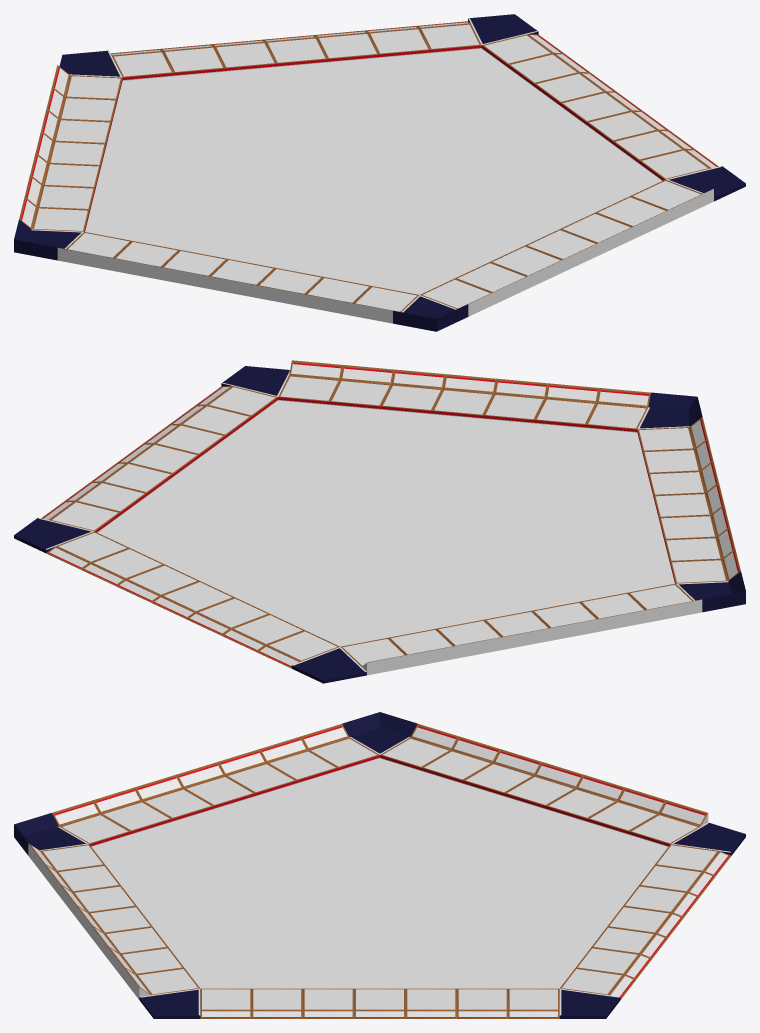
File: playground.fbx
3 views of the same model, one above another, from view 1: azimuth 30°, elevation 25°; view 2: azimuth 150°, elevation 25°; view 3: azimuth 270°, elevation 25° (orthographic). The views are drawn at different scales.
Parts seen in each view (by area): view 1: map, Location 16, Location 23, Location 21, Location 22, Location 20, Location 17, Location 19, Location 18, Location 13, Location 11, Location 15 (+29 smaller); view 2: map, Location 9, Location 14, Location 15, Location 10, Location 12, Location 11, Location 13, Location 16, Location 31, Location 25, Location 26 (+29 smaller); view 3: map, Location 31, Location 21, Location 27, Location 18, Location 30, Location 19, Location 20, Location 22, Location 26, Location 28, Location 29 (+29 smaller).
Part boxes in pixels (<box>): map: <box>85,48,661,294</box>; Location 16: <box>393,295,468,331</box>; Location 23: <box>57,232,131,269</box>; Location 21: <box>153,250,227,287</box>; Location 22: <box>105,241,179,278</box>; Location 20: <box>201,259,275,296</box>; Location 17: <box>345,286,418,323</box>; Location 19: <box>249,268,323,305</box>; Location 18: <box>297,277,370,314</box>; Location 13: <box>490,245,573,283</box>; Location 11: <box>560,212,643,250</box>; Location 15: <box>420,278,503,316</box>; map: <box>98,400,674,646</box>; Location 9: <box>278,360,342,404</box>; Location 14: <box>534,383,599,427</box>; Location 15: <box>586,388,650,432</box>; Location 10: <box>329,365,394,409</box>; Location 12: <box>432,374,496,418</box>; Location 11: <box>381,369,445,414</box>; Location 13: <box>483,378,548,423</box>; Location 16: <box>637,392,702,429</box>; Location 31: <box>340,638,414,675</box>; Location 25: <box>628,583,702,621</box>; Location 26: <box>580,592,654,630</box>; map: <box>92,758,667,988</box>; Location 31: <box>629,800,708,846</box>; Location 21: <box>218,749,296,796</box>; Location 27: <box>463,749,541,796</box>; Location 18: <box>93,787,172,834</box>; Location 30: <box>587,787,666,834</box>; Location 19: <box>135,775,213,821</box>; Location 20: <box>176,762,255,808</box>; Location 22: <box>259,736,338,783</box>; Location 26: <box>421,736,500,783</box>; Location 28: <box>504,762,583,808</box>; Location 29: <box>546,775,624,821</box>.
Size of the model in its own units: 1406 by 28.46 by 1478.
